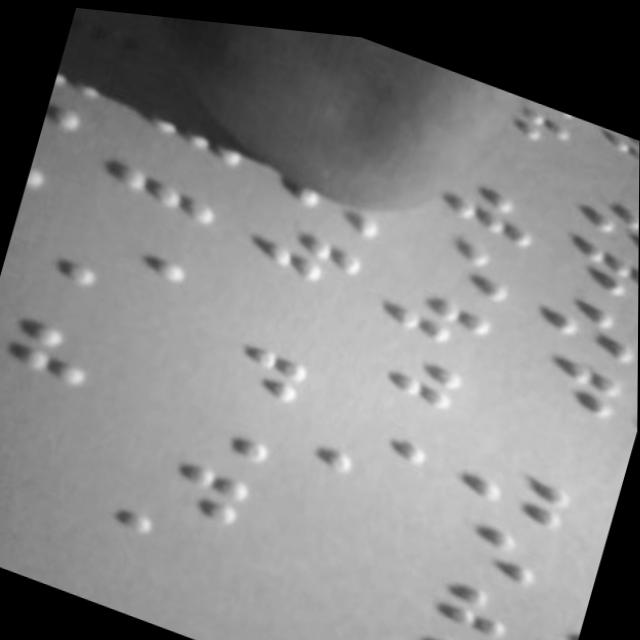braiile: (73, 180, 206, 286), (187, 306, 317, 407), (369, 256, 500, 356), (103, 119, 229, 222), (132, 427, 259, 529), (246, 200, 374, 301), (394, 198, 524, 296), (339, 314, 468, 407), (416, 486, 544, 579), (452, 428, 577, 522), (161, 372, 283, 465), (505, 319, 629, 409), (396, 545, 517, 636), (426, 149, 544, 240), (525, 265, 639, 357), (324, 373, 438, 461), (542, 208, 639, 297), (566, 170, 639, 248), (367, 599, 488, 640)
